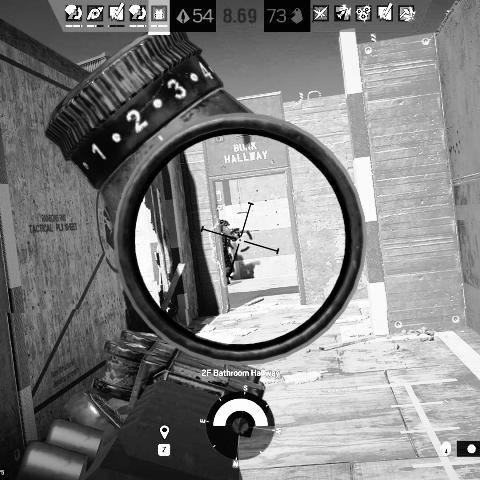Character: (210, 218, 244, 287)
Friend_label: (212, 204, 228, 218)
Head: (220, 219, 230, 228)
